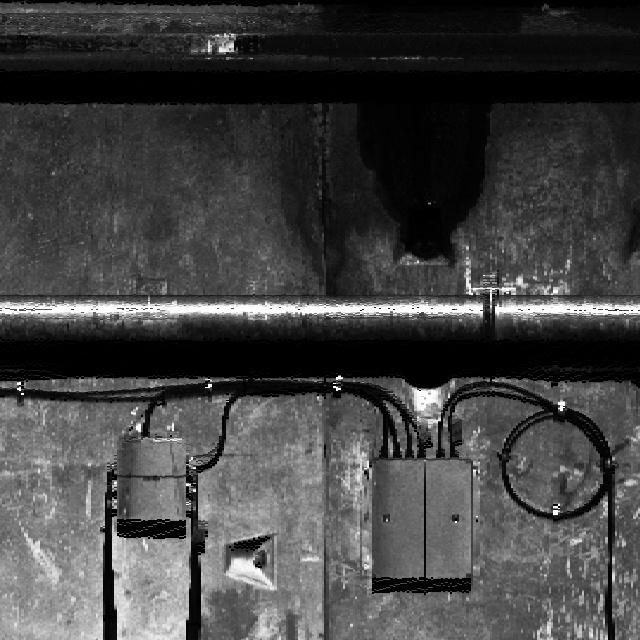leakage: (319, 0, 529, 239)
